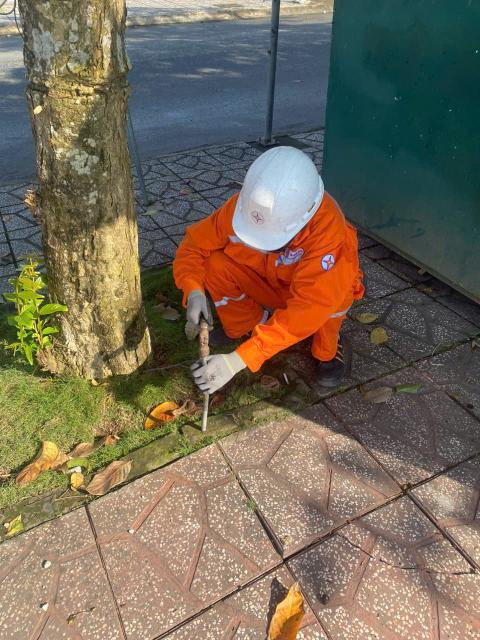gloves: (178, 353, 253, 394), (181, 284, 216, 335)
helmet: (220, 132, 328, 247)
shoes: (306, 332, 353, 388)
